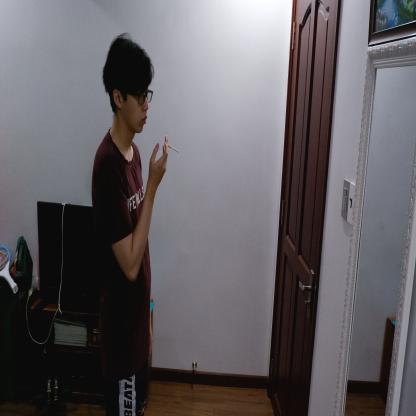cigarette: (168, 144, 180, 154)
person: (89, 32, 170, 415)
